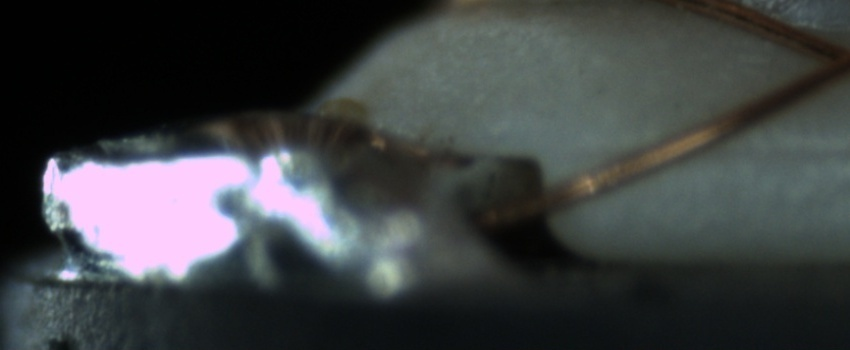CL: (798, 27, 850, 89)
DL: (691, 119, 848, 183)
